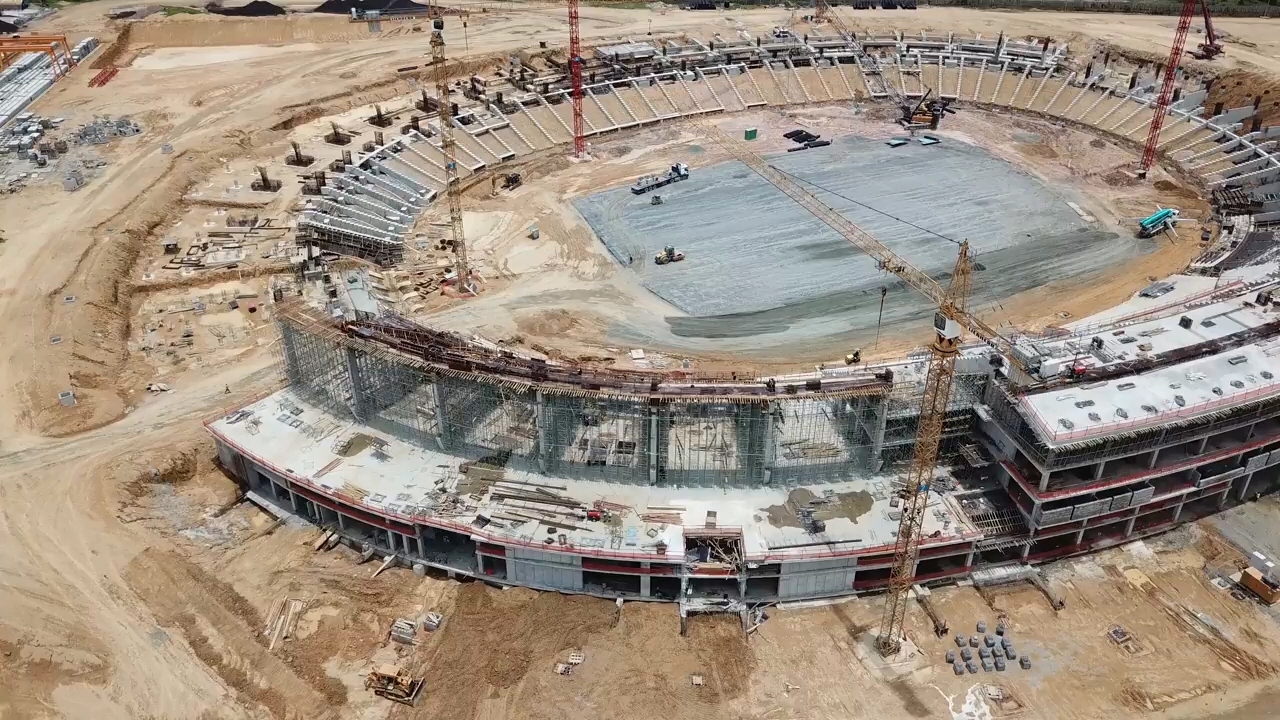ismakinesi: (360, 659, 430, 708)
kamyon: (630, 159, 692, 196)
traktor: (657, 241, 687, 265)
